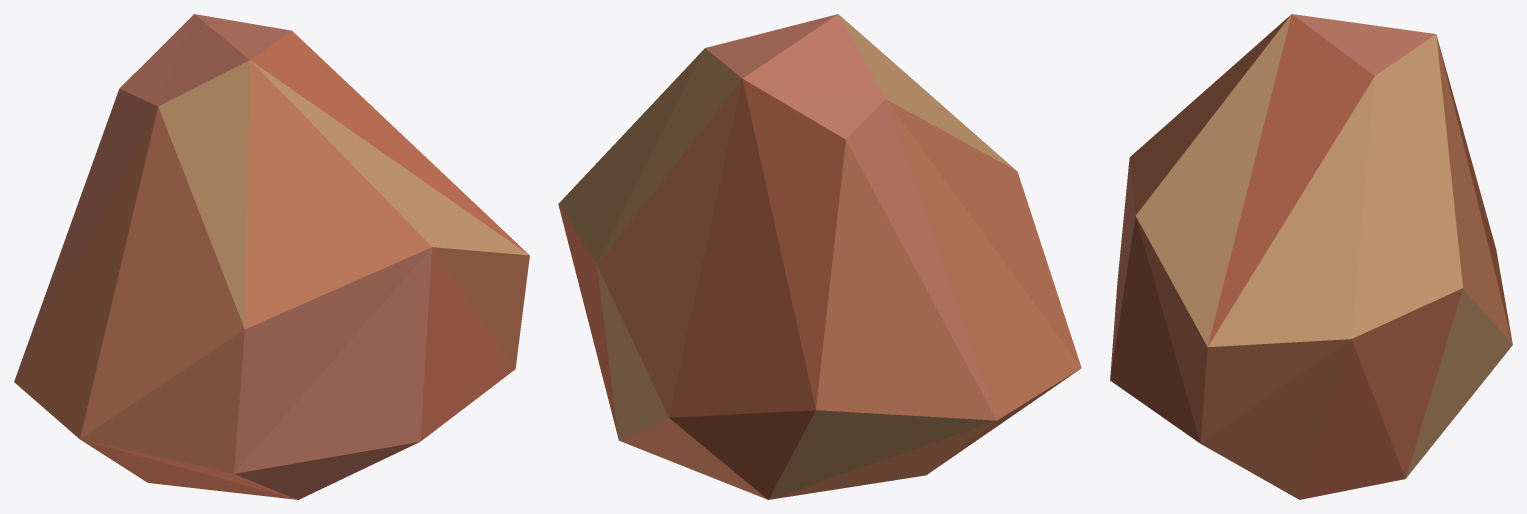
The model's file is Iron Ore Chunk.obj.
The picture shows the model from 3 angles, left to right: view 1: azimuth 30°, elevation 25°; view 2: azimuth 150°, elevation 25°; view 3: azimuth 270°, elevation 25°; orthographic projection. The views are drawn at different scales.
Parts seen in each view (by area): view 1: Iron_Ore_Chunk.Static; view 2: Iron_Ore_Chunk.Static; view 3: Iron_Ore_Chunk.Static.
Boxes of the visible parts, <box> form: Iron_Ore_Chunk.Static: <box>14,14,529,499</box>; Iron_Ore_Chunk.Static: <box>558,14,1081,499</box>; Iron_Ore_Chunk.Static: <box>1110,14,1512,499</box>.
Size of the model in its own units: 0.3715 by 0.3308 by 0.3003.
